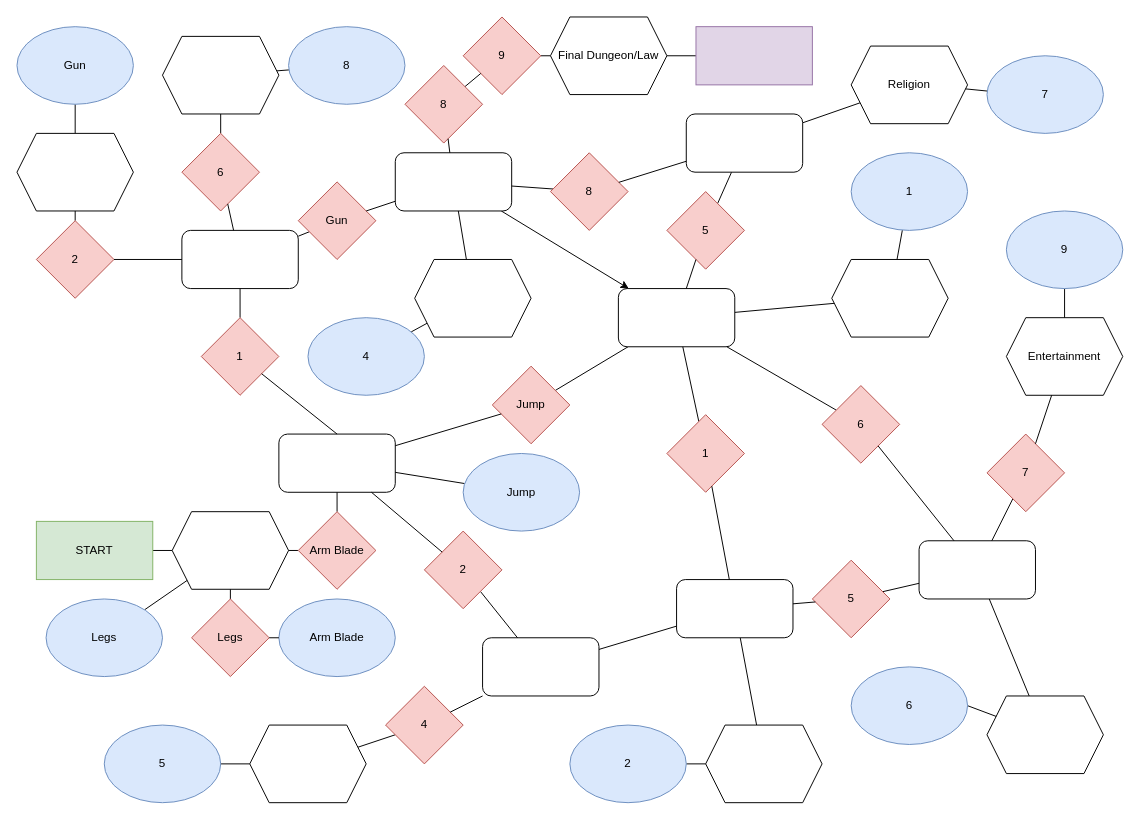
The diagram is 1140 pixels wide and 820 high, and some of its shapes have lost their labels. The centre of each missing label's shape, as x and y in pixels:
Adikean Row: point (336, 462)
Agriculture: point (307, 763)
Alleyways: point (734, 608)
Bay: point (976, 569)
Calvarian Halls: point (230, 550)
END: point (753, 55)
Hidden Church: point (889, 298)
Lanes: point (676, 317)
Manufacturing: point (472, 298)
Military: point (74, 171)
Mountain: point (453, 181)
N Plateau: point (744, 142)
NW Plateau: point (239, 259)
Power/Electricity: point (220, 74)
Starter Dungeon 3: point (763, 763)
SW Plateau: point (540, 666)
Water: point (1044, 734)
